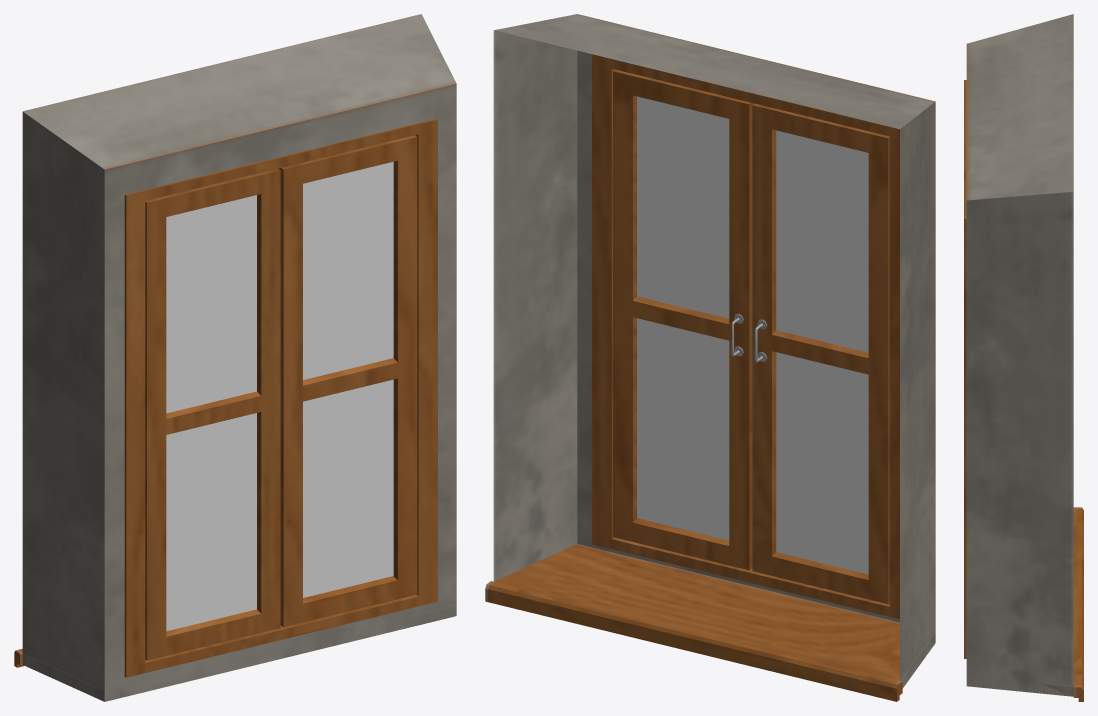
The model's file is StoreWindow2.fbx.
The picture shows the model from 3 angles, left to right: view 1: azimuth 30°, elevation 25°; view 2: azimuth 150°, elevation 25°; view 3: azimuth 270°, elevation 25°; orthographic projection. The views are drawn at different scales.
Visible parts, largest first — view 1: Cube.001, Cube.002; view 2: Cube.001, Cube.002; view 3: Cube.001.
Part boxes in pixels (bbox=[...]): Cube.001: bbox=[14, 14, 456, 701]; Cube.002: bbox=[166, 161, 393, 631]; Cube.001: bbox=[485, 14, 935, 701]; Cube.002: bbox=[637, 96, 868, 574]; Cube.001: bbox=[964, 14, 1083, 701].
Bounding box in the file's own units: 137 × 180 × 38.44.
2 materials, 1 textured.
